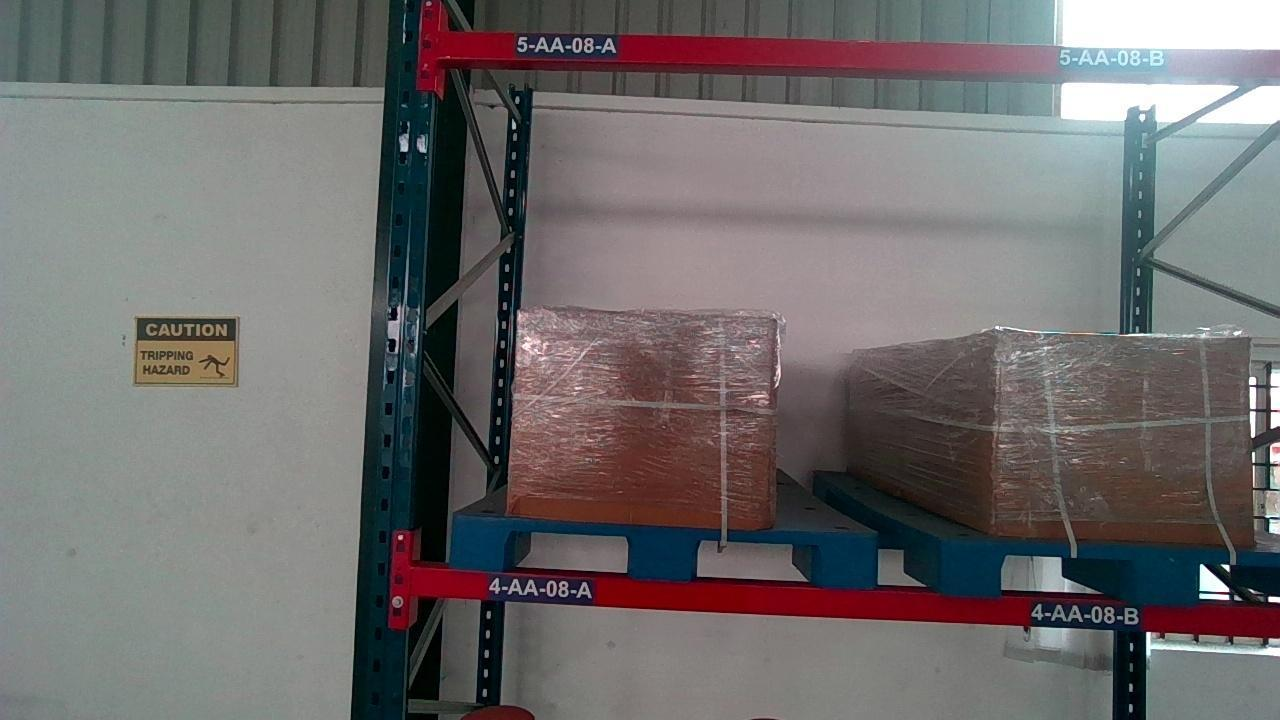h_rack: (411, 566, 1280, 641), (434, 33, 1280, 82)
small_pallet: (448, 519, 881, 583), (950, 542, 1275, 602)
